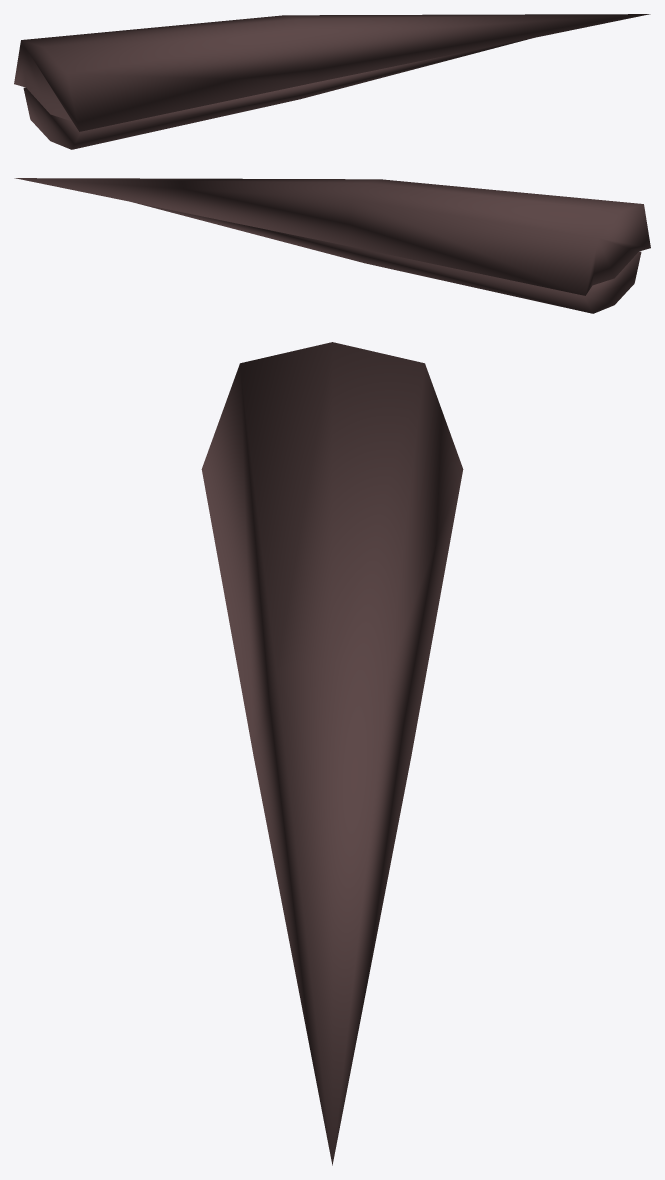
Rendered from beak1.fbx.
3 views of the same model, one above another, from view 1: azimuth 30°, elevation 25°; view 2: azimuth 150°, elevation 25°; view 3: azimuth 270°, elevation 25° (orthographic). The views are drawn at different scales.
Visible parts, largest first — view 1: beak1; view 2: beak1; view 3: beak1.
Part boxes in pixels (left/top/right/bottom): beak1: left=14, top=14, right=650, bottom=149; beak1: left=14, top=178, right=650, bottom=313; beak1: left=201, top=342, right=463, bottom=1165.
Bounding box in the file's own units: 0.1944 × 1.04 × 0.189.
